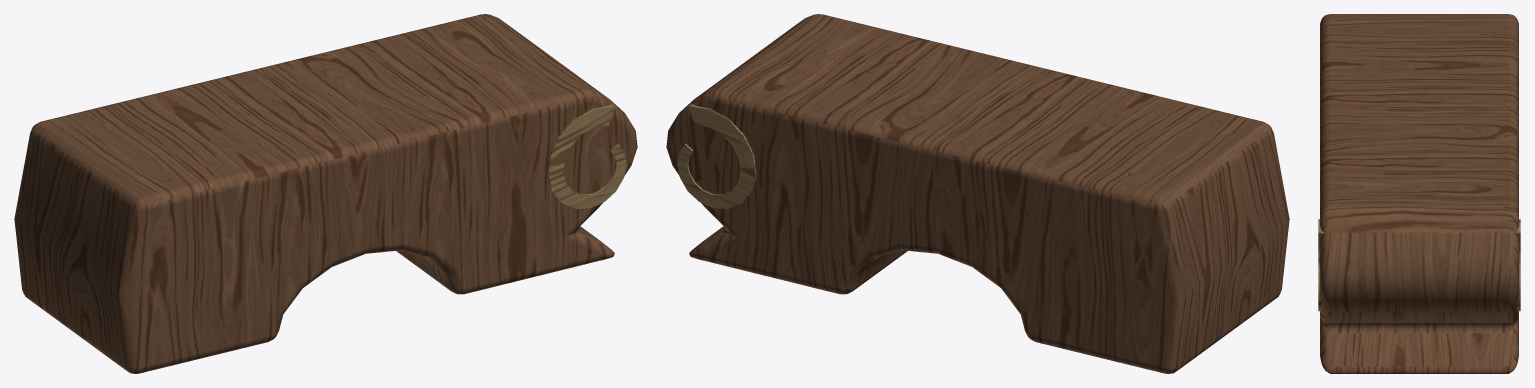
File: clock_foot_l.glb
3 renders of one model, left to right at view 1: azimuth 30°, elevation 25°; view 2: azimuth 150°, elevation 25°; view 3: azimuth 270°, elevation 25°, orthographic. The views are drawn at different scales.
Visible parts, largest first — view 1: clock_foot_l; view 2: clock_foot_l; view 3: clock_foot_l.
Boxes of the visible parts, left/top/right/bottom form: clock_foot_l: left=14, top=14, right=637, bottom=373; clock_foot_l: left=666, top=14, right=1289, bottom=373; clock_foot_l: left=1318, top=14, right=1520, bottom=373.
Bounding box in the file's own units: 0.3821 × 0.1231 × 0.1451.
Materials: 2 (2 with a texture image).
